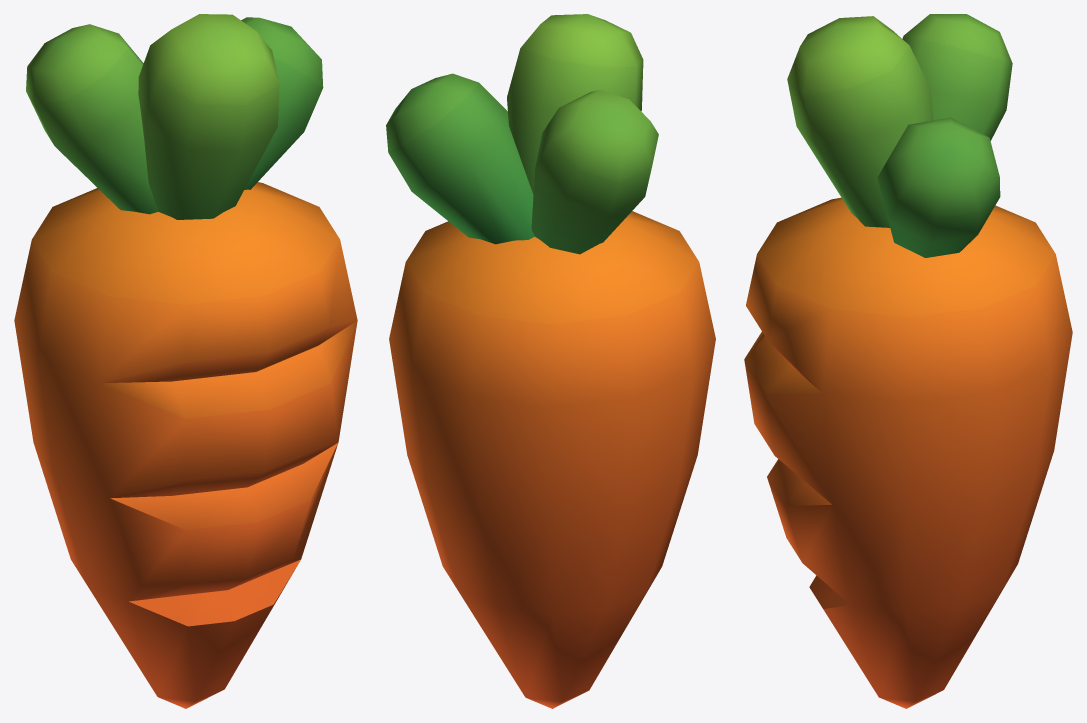
Rendered from carrot.gltf.
3 renders of one model, left to right at view 1: azimuth 30°, elevation 25°; view 2: azimuth 150°, elevation 25°; view 3: azimuth 270°, elevation 25°, orthographic. The views are drawn at different scales.
Visible parts, largest first — view 1: carrot; view 2: carrot; view 3: carrot.
Part boxes in pixels (bbox=[...]): carrot: bbox=[14, 14, 357, 708]; carrot: bbox=[386, 14, 715, 708]; carrot: bbox=[744, 14, 1072, 708].
Size of the model in its own units: 0.322 by 0.7302 by 0.3179.
Materials: 1 (1 with a texture image).
